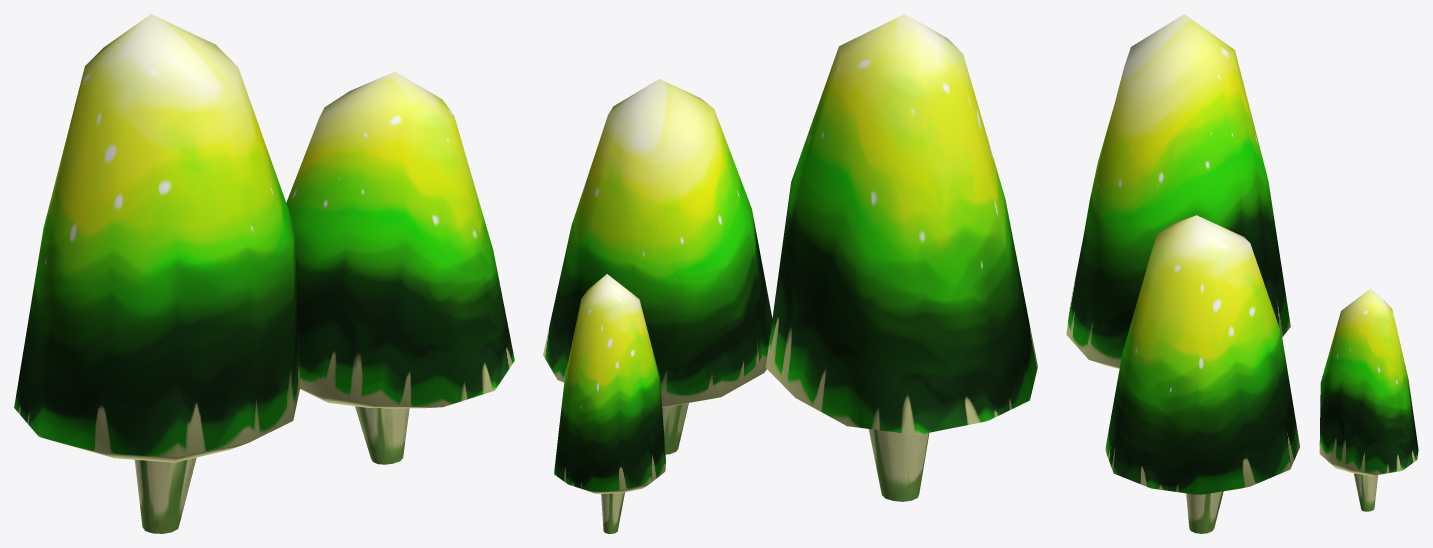
Rendered from SM_ENV_graveyard_shroom_05.fbx.
The picture shows the model from 3 angles, left to right: view 1: azimuth 30°, elevation 25°; view 2: azimuth 150°, elevation 25°; view 3: azimuth 270°, elevation 25°; orthographic projection. The views are drawn at different scales.
Parts seen in each view (by area): view 1: SM_ENV_graveyard_shroom_05; view 2: SM_ENV_graveyard_shroom_05; view 3: SM_ENV_graveyard_shroom_05.
Part boxes in pixels (x1,y1,x2,y2): SM_ENV_graveyard_shroom_05: [14, 14, 514, 533]; SM_ENV_graveyard_shroom_05: [543, 14, 1037, 533]; SM_ENV_graveyard_shroom_05: [1066, 14, 1418, 533].
Size of the model in its own units: 37.37 by 38.04 by 29.16.
